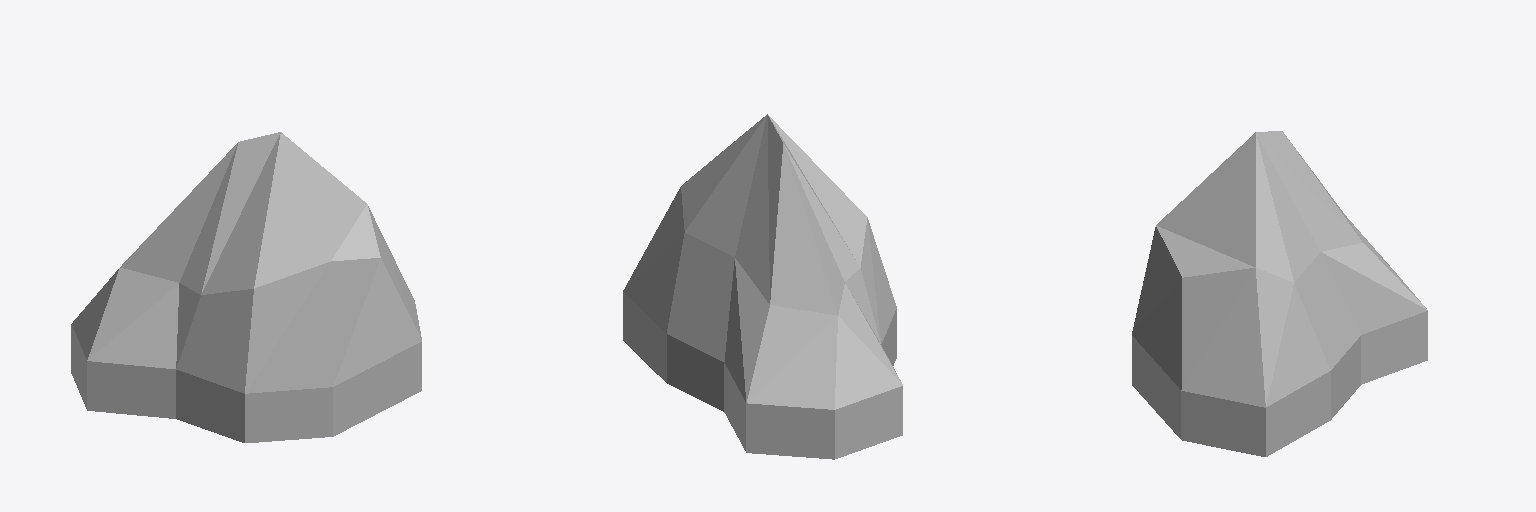
The model's file is rock_structures_3.obj.
3 views of the same model, side by side, from view 1: azimuth 30°, elevation 25°; view 2: azimuth 150°, elevation 25°; view 3: azimuth 270°, elevation 25° (orthographic).
Parts seen in each view (by area): view 1: Plane.003; view 2: Plane.003; view 3: Plane.003.
Boxes of the visible parts, x1,y1,x2,y2 form: Plane.003: [71, 132, 421, 442]; Plane.003: [623, 114, 902, 459]; Plane.003: [1132, 131, 1427, 456].
Size of the model in its own units: 12.39 by 10.11 by 10.46.